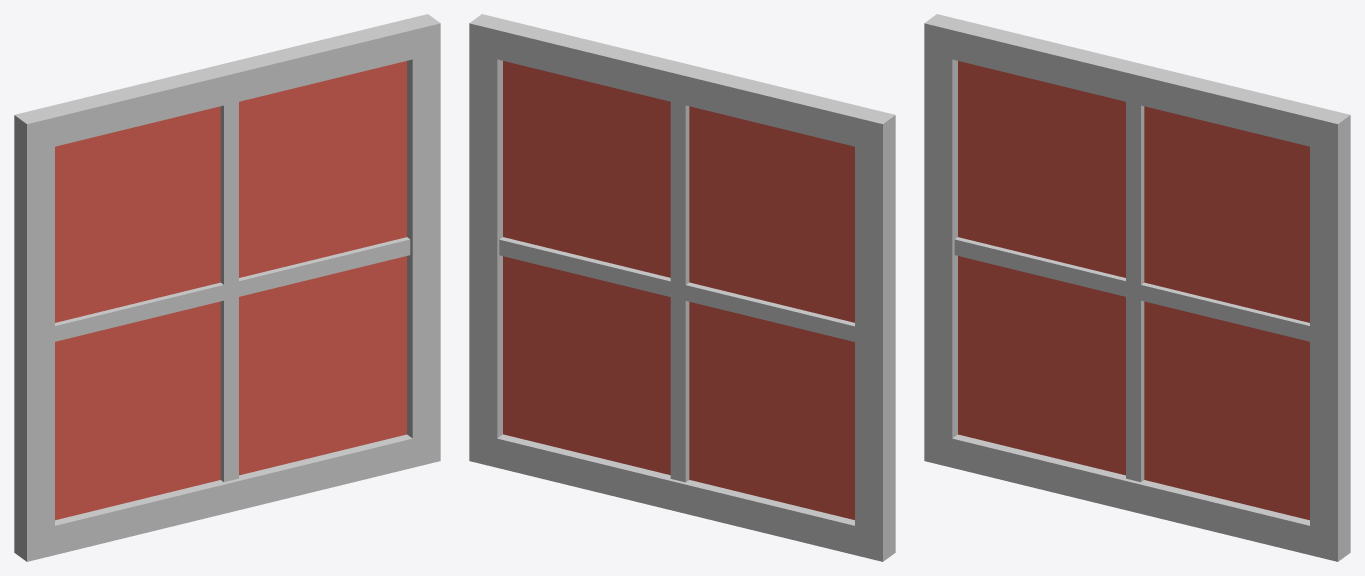
The model's file is Mesh_WindowSmall_02.fbx.
3 renders of one model, left to right at view 1: azimuth 30°, elevation 25°; view 2: azimuth 150°, elevation 25°; view 3: azimuth 330°, elevation 25°, orthographic.
Parts seen in each view (by area): view 1: Mesh_WindowSmall_02; view 2: Mesh_WindowSmall_02; view 3: Mesh_WindowSmall_02.
Part boxes in pixels (x1,y1,x2,y2): Mesh_WindowSmall_02: (14,14,440,561); Mesh_WindowSmall_02: (469,14,895,561); Mesh_WindowSmall_02: (924,14,1350,561).
Size of the model in its own units: 0.8383 by 0.8476 by 0.0447.
